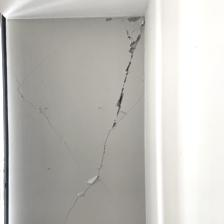High: (10, 14, 147, 224)
